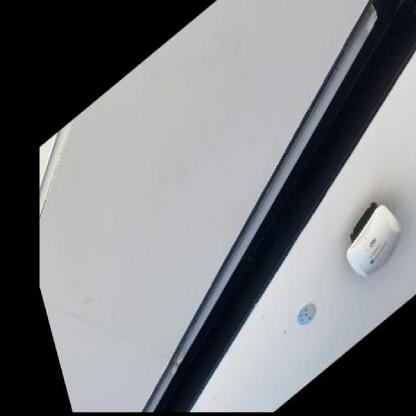light_off: (56, 0, 416, 415)
